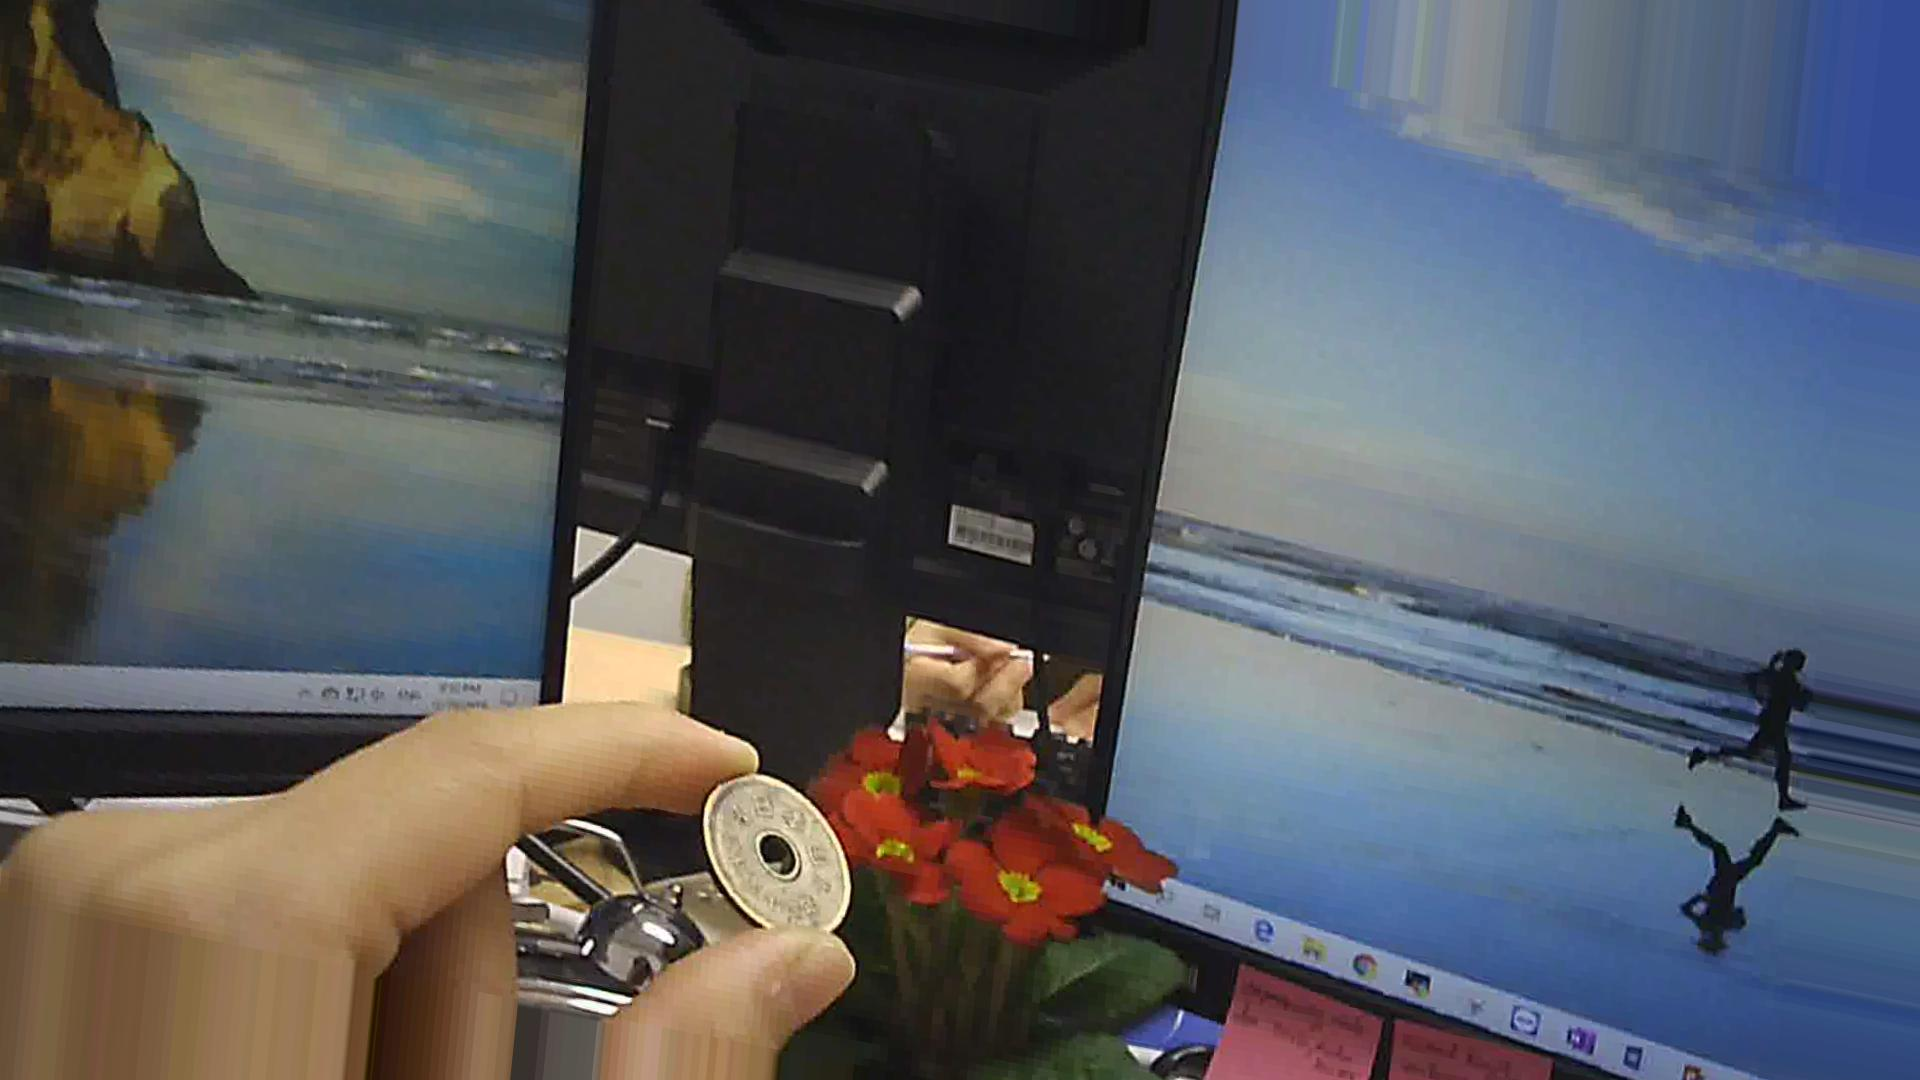5 Yen: (694, 767, 855, 936)
